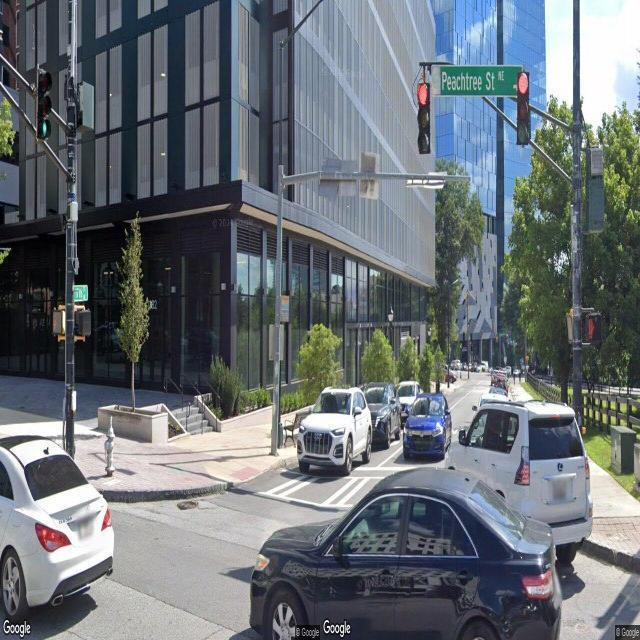seating: (283, 410, 312, 448)
